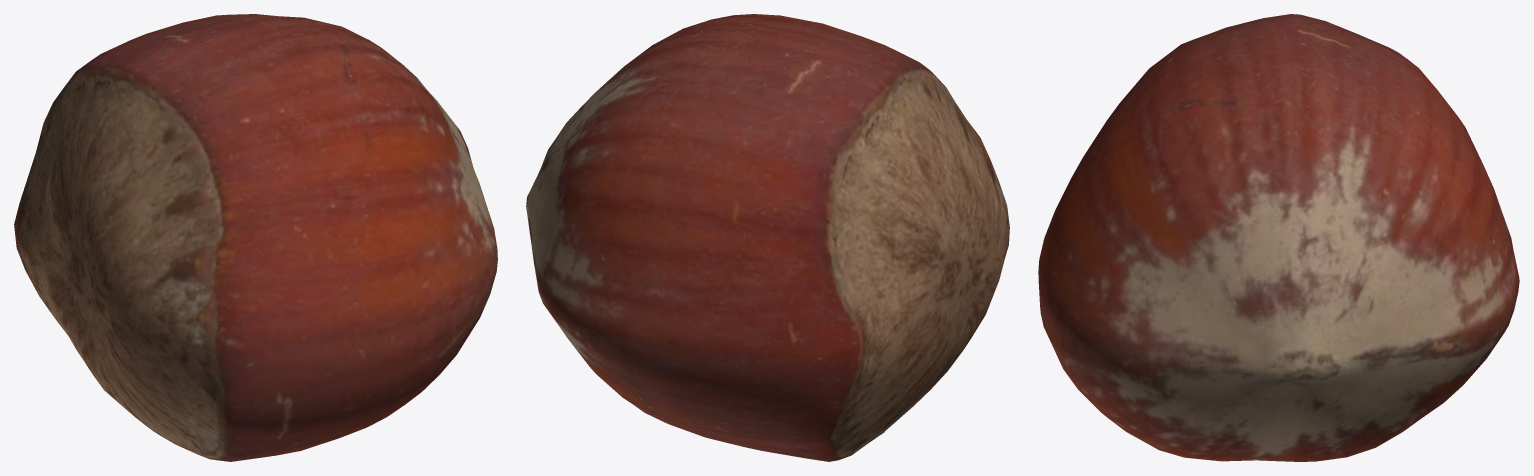
File: hazelnut.glb
3 renders of one model, left to right at view 1: azimuth 30°, elevation 25°; view 2: azimuth 150°, elevation 25°; view 3: azimuth 270°, elevation 25°, orthographic.
Visible parts, largest first — view 1: tkzhccbhw_LOD0_TIER2_000; view 2: tkzhccbhw_LOD0_TIER2_000; view 3: tkzhccbhw_LOD0_TIER2_000.
Part boxes in pixels (x1,y1,x2,y2): tkzhccbhw_LOD0_TIER2_000: (14,14,497,461); tkzhccbhw_LOD0_TIER2_000: (526,14,1009,461); tkzhccbhw_LOD0_TIER2_000: (1038,14,1519,461).
Bounding box in the file's own units: 0.0351 × 0.0318 × 0.0356.
1 material, 1 textured.
